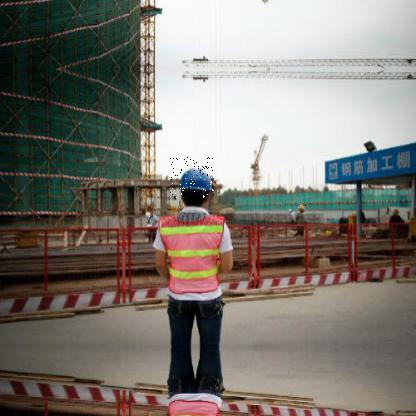safetyhelmet: (170, 158, 215, 199), (144, 207, 154, 220), (297, 202, 308, 212)
